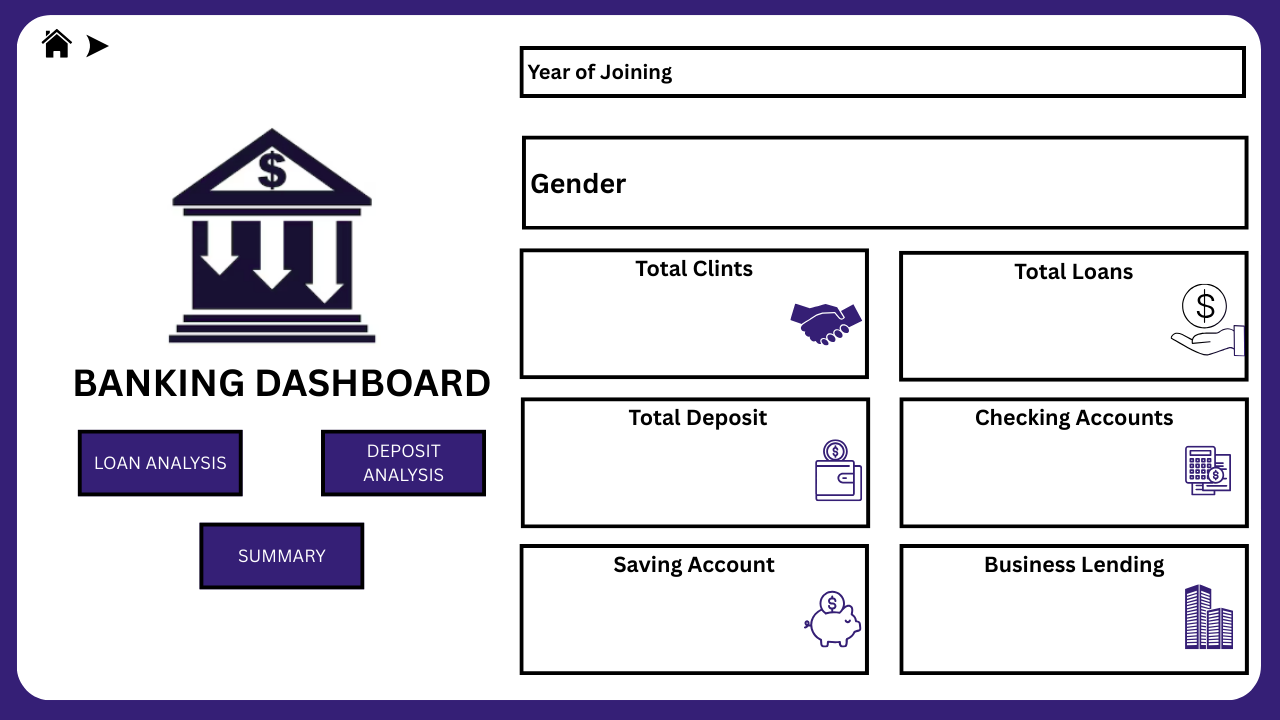

What the dashboard file says about the page in this screenshot:
{"tool":"powerbi","page":{"name":" Home 1","canvas":[1280,720],"ordinal":0},"visuals":[{"type":"card","fields":{"Values":["CountNonNull(banking_case customer.Name)"]},"box":[551.8,262.7,279.7,111.5],"z":0},{"type":"slicer","fields":{"Values":["banking_case customer.GenderId"]},"box":[614.2,139.8,638.7,81.3],"z":1000},{"type":"card","fields":{"Values":["banking_case customer.Total Loan"]},"box":[933.6,262.7,279.7,111.5],"z":2000},{"type":"card","fields":{"Values":["banking_case customer.Total Deposit"]},"box":[551.8,413.9,279.7,111.5],"z":3000},{"type":"slicer","fields":{"Values":["banking_case customer.Year Of Joining"]},"box":[670.7,48.5,569.9,38.8],"z":4000},{"type":"card","fields":{"Values":["Sum(banking_case customer.Business Lending)"]},"box":[933.6,559.4,279.7,111.5],"z":5000},{"type":"card","fields":{"Values":["Sum(banking_case customer.Checking Accounts)"]},"box":[933.6,413.9,279.7,111.5],"z":6000},{"type":"card","fields":{"Values":["Sum(banking_case customer.Saving Accounts)"]},"box":[551.8,561.3,279.7,111.5],"z":7000},{"type":"actionButton","box":[77.9,429.5,162.2,58.9],"z":8000},{"type":"actionButton","box":[320,428.3,166.7,60],"z":9000},{"type":"actionButton","box":[200,525,163.3,60],"z":10000},{"type":"actionButton","box":[78,30,40,36],"z":10001}]}

Visuals, with their boxes in screenshot pixels (x1, y1, x2, y2), scaled from the page's 1280x720 canvas onto the 1280x720 screenshot:
card - CountNonNull(banking_case customer.Name): (552,263,832,374)
slicer - banking_case customer.GenderId: (614,140,1253,221)
card - banking_case customer.Total Loan: (934,263,1213,374)
card - banking_case customer.Total Deposit: (552,414,832,525)
slicer - banking_case customer.Year Of Joining: (671,48,1241,87)
card - Sum(banking_case customer.Business Lending): (934,559,1213,671)
card - Sum(banking_case customer.Checking Accounts): (934,414,1213,525)
card - Sum(banking_case customer.Saving Accounts): (552,561,832,673)
actionButton: (78,430,240,488)
actionButton: (320,428,487,488)
actionButton: (200,525,363,585)
actionButton: (78,30,118,66)
